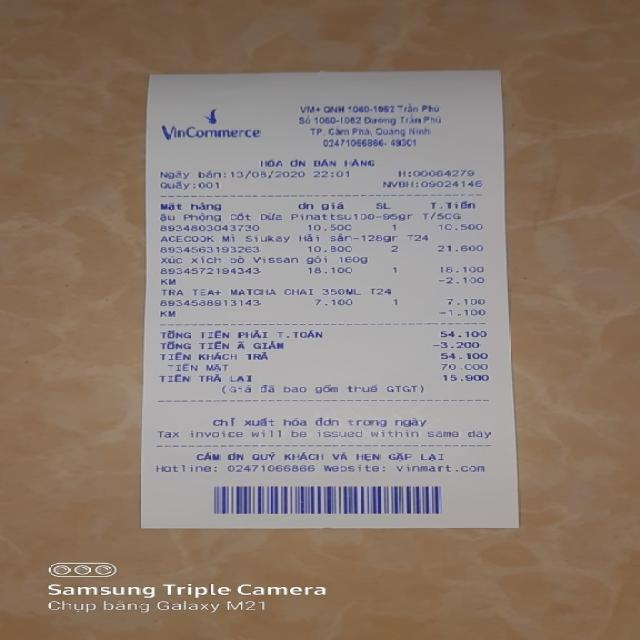Date: (228, 170, 306, 179)
Store_Name: (154, 123, 266, 141)
amount_number: (439, 329, 488, 339)
label_total: (157, 329, 326, 340)
